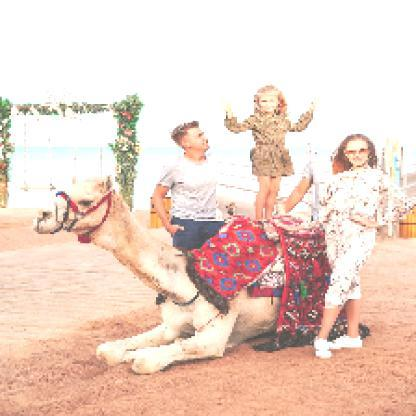child: (218, 84, 322, 223)
